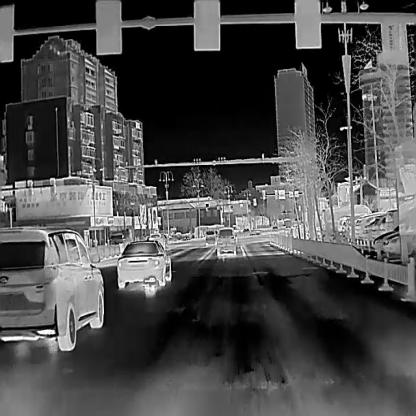car: (0, 226, 105, 352), (116, 240, 171, 288), (374, 219, 415, 255), (362, 211, 395, 240), (216, 226, 236, 255), (205, 229, 216, 245)
